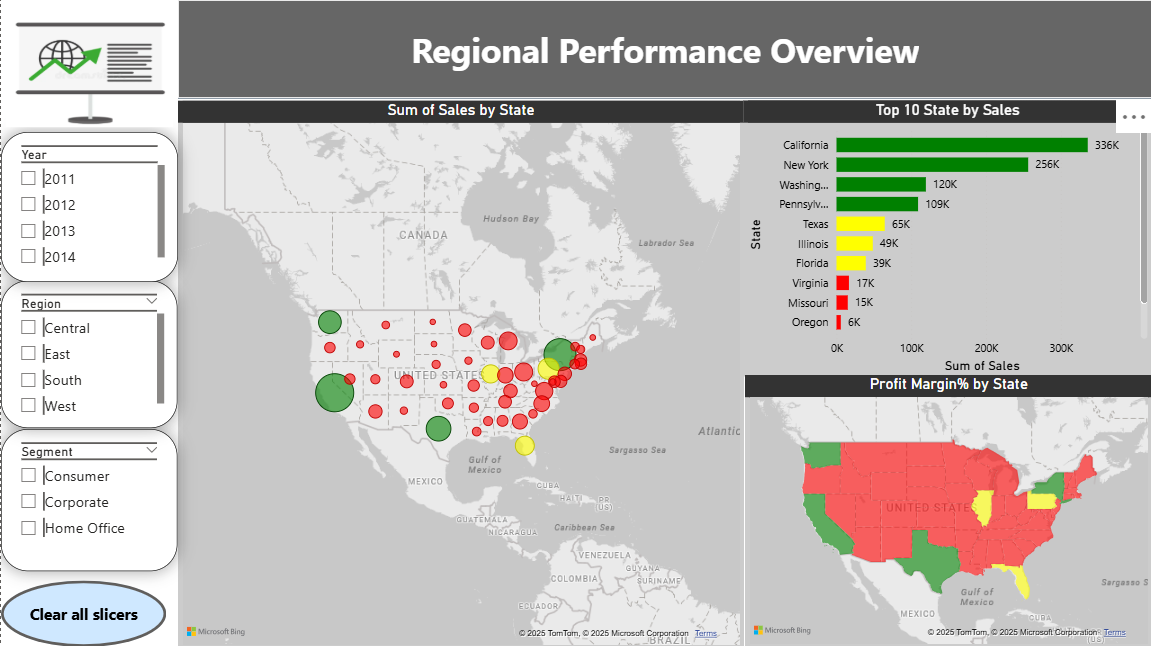

The dashboard page shown, as its layout file describes it:
{"tool":"powerbi","page":{"name":"Regional performance Overview","canvas":[1280,720],"ordinal":1},"visuals":[{"type":"barChart","title":"Top 10 State by Sales","fields":{"Category":["Orders.State"],"Y":["Sum(Orders.Sales)"]},"box":[825.4,111.1,454,306.3],"z":0},{"type":"shape","box":[196.7,0,1082.7,109],"z":1000},{"type":"map","fields":{"Category":["Orders.State"],"Size":["Sum(Orders.Sales)"]},"box":[196.7,111,629,609.5],"z":2000},{"type":"slicer","fields":{"Values":["Orders.Segment"]},"box":[0,476,196,158],"z":3000},{"type":"slicer","fields":{"Values":["Orders.Region"]},"box":[0,312,196,164],"z":4000},{"type":"slicer","fields":{"Values":["Orders.Order Date.Variation.Date Hierarchy.Year"]},"box":[0,146,196.8,166.7],"z":5000},{"type":"filledMap","fields":{"Category":["Orders.State"]},"box":[826,417,453,303],"z":6000},{"type":"image","box":[0,0,196,146],"z":7000},{"type":"actionButton","box":[0,645.4,183.6,73.8],"z":8000}]}

Visuals, with their boxes on the page's 1280x720 design canvas (x1, y1, x2, y2). These are canvas units, not pixel positions in the 1151x646 screenshot, which may show the page scaled, cropped or inside an application window:
"Top 10 State by Sales" barChart: (left=825, top=111, right=1279, bottom=417)
shape: (left=197, top=0, right=1279, bottom=109)
map - Orders.State x Sum(Orders.Sales): (left=197, top=111, right=826, bottom=720)
slicer - Orders.Segment: (left=0, top=476, right=196, bottom=634)
slicer - Orders.Region: (left=0, top=312, right=196, bottom=476)
slicer - Orders.Order Date.Variation.Date Hierarchy.Year: (left=0, top=146, right=197, bottom=313)
filledMap - Orders.State: (left=826, top=417, right=1279, bottom=720)
image: (left=0, top=0, right=196, bottom=146)
actionButton: (left=0, top=645, right=184, bottom=719)
